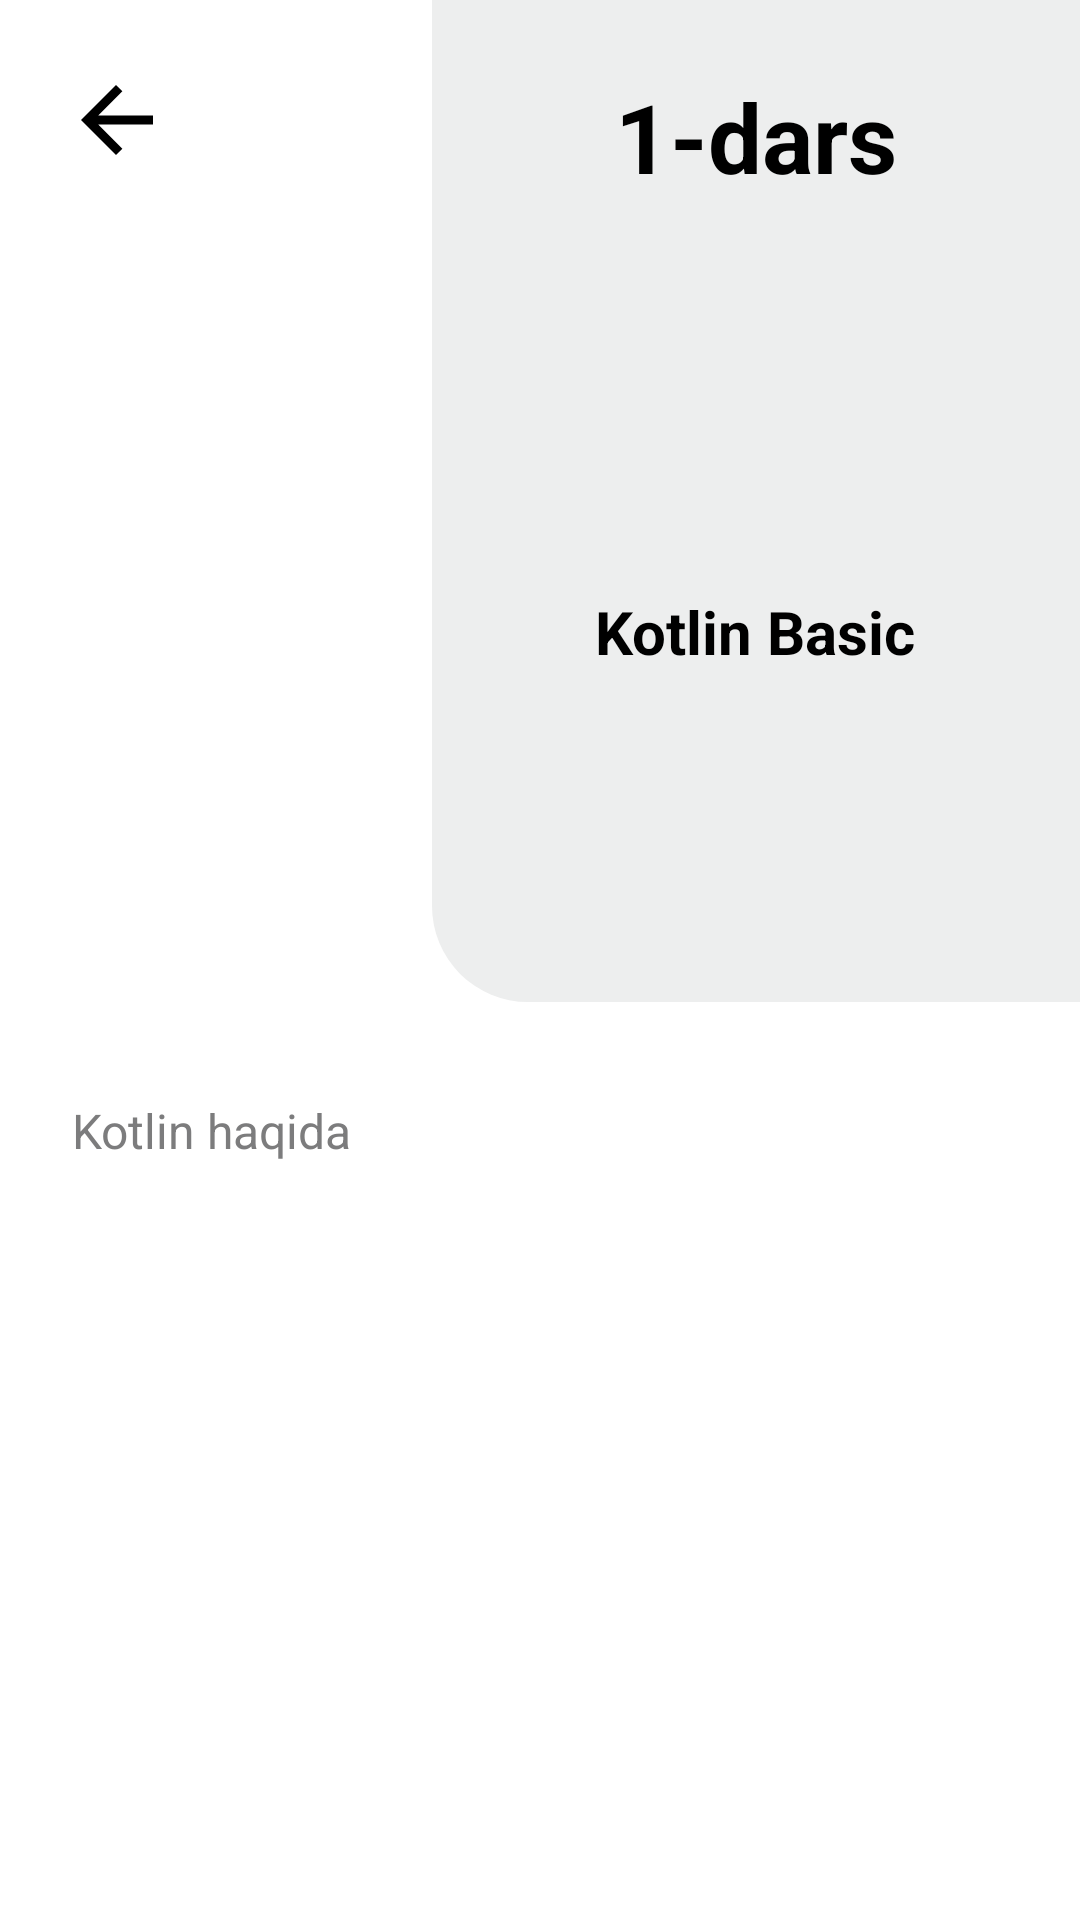

Icon bounding boxes for this 1080w x 1920h phone screenshot, format [x1, y1, x2, y2]:
back: [81, 85, 153, 155]
